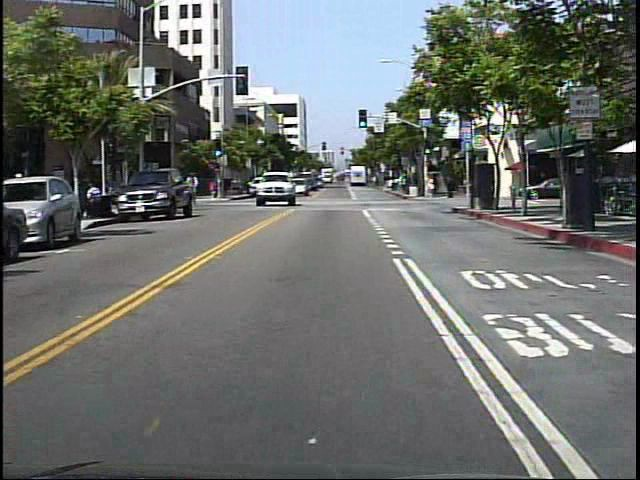person: (184, 170, 204, 203), (444, 171, 459, 203), (426, 177, 438, 200), (210, 176, 220, 200)
